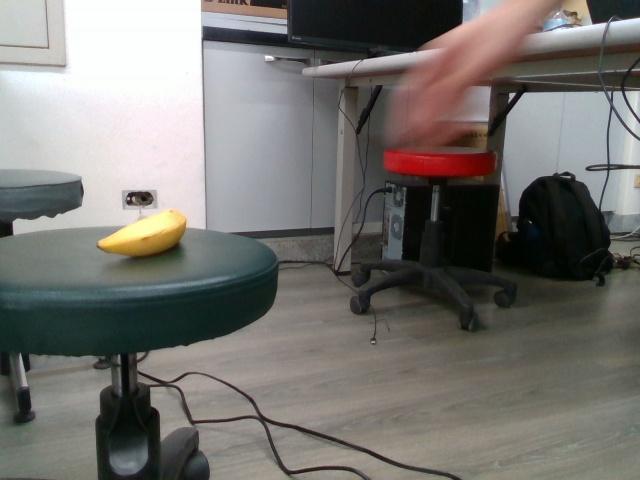banana: (95, 208, 188, 257)
